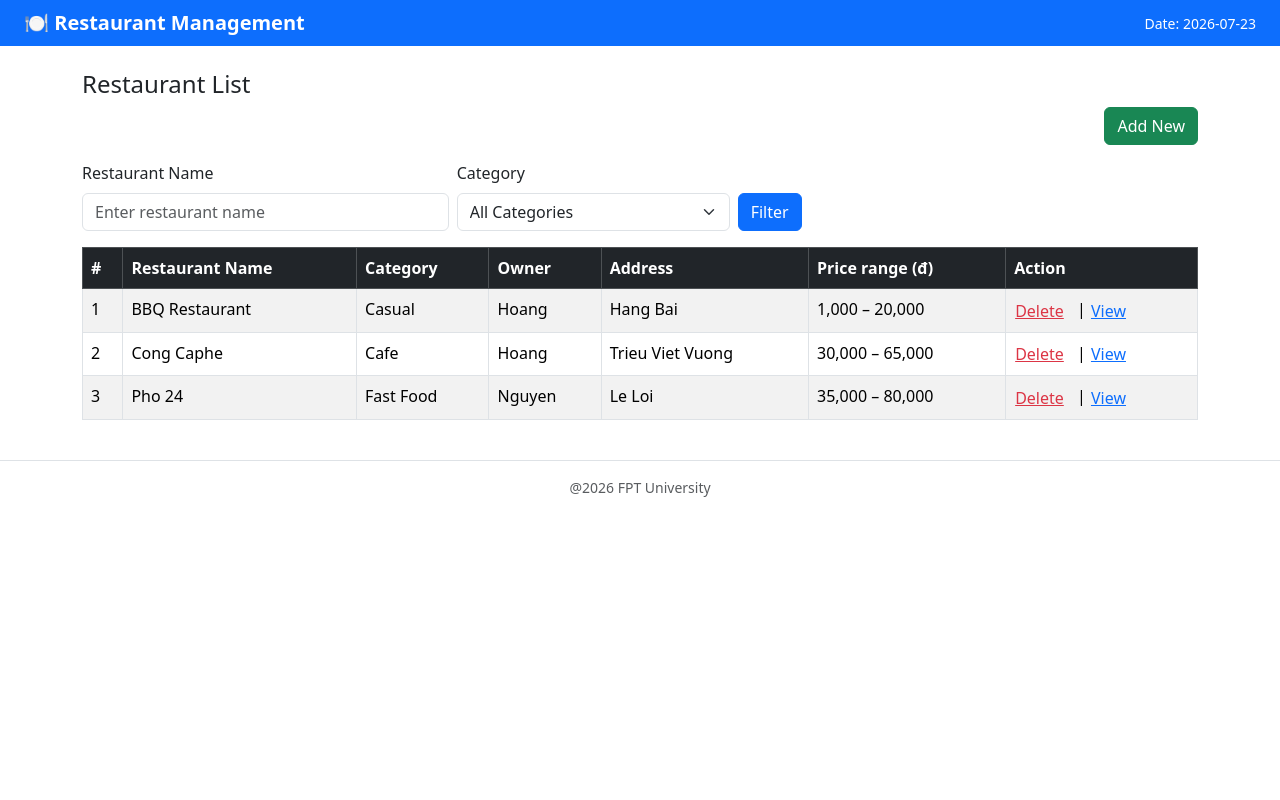
RestaurantListPage — delete › click Delete mở DeleteModal
Click the button "Delete" in the row of "BBQ Restaurant".
click(1040, 310)  # box [1014,298,1065,324]
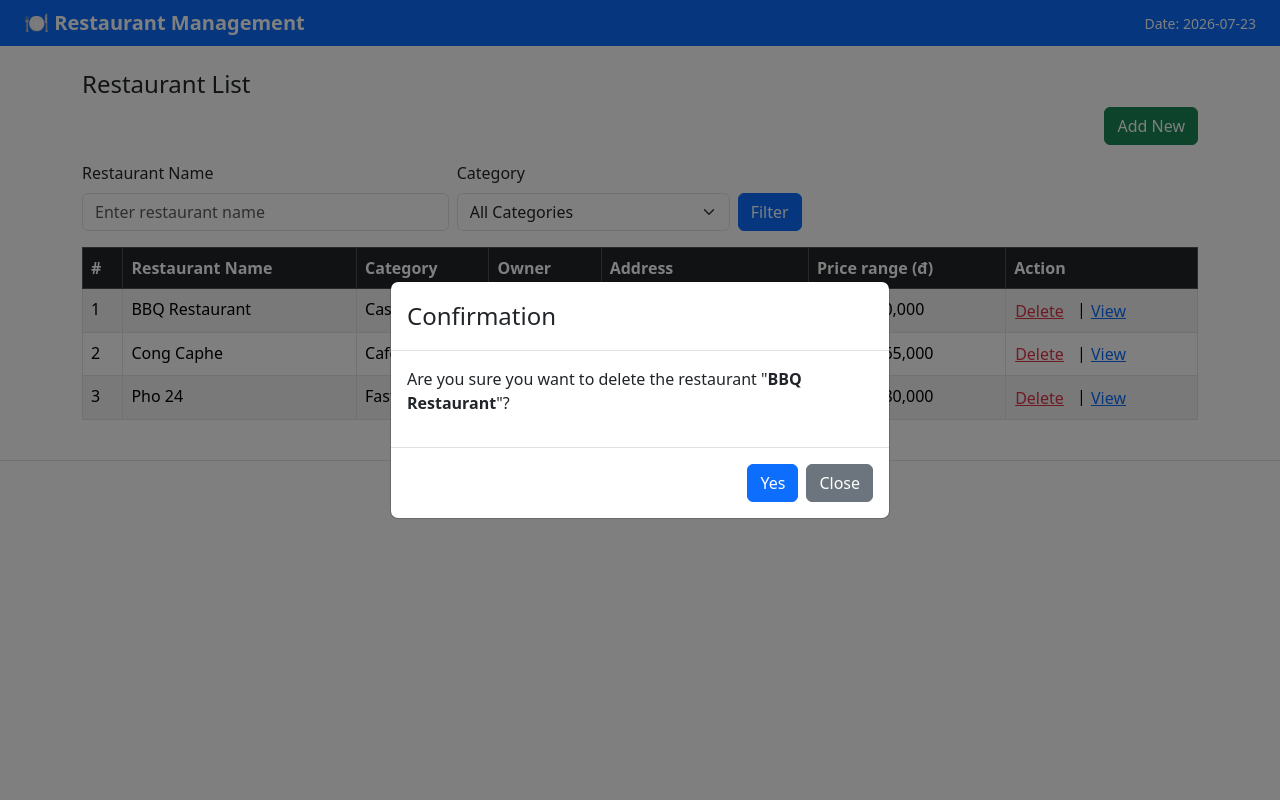
Expected: the text "Are you sure" is shown, [407,368,768,390]
